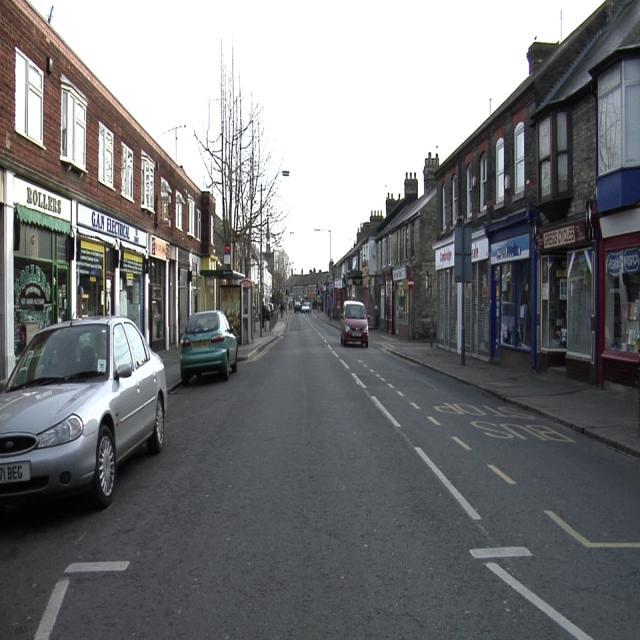Building: (313, 0, 639, 386), (2, 0, 251, 372)
Car: (1, 317, 167, 506), (181, 312, 237, 384), (342, 302, 367, 346), (302, 301, 310, 312), (294, 301, 302, 311)
Road: (0, 313, 638, 623)
Tree: (194, 47, 284, 277)
